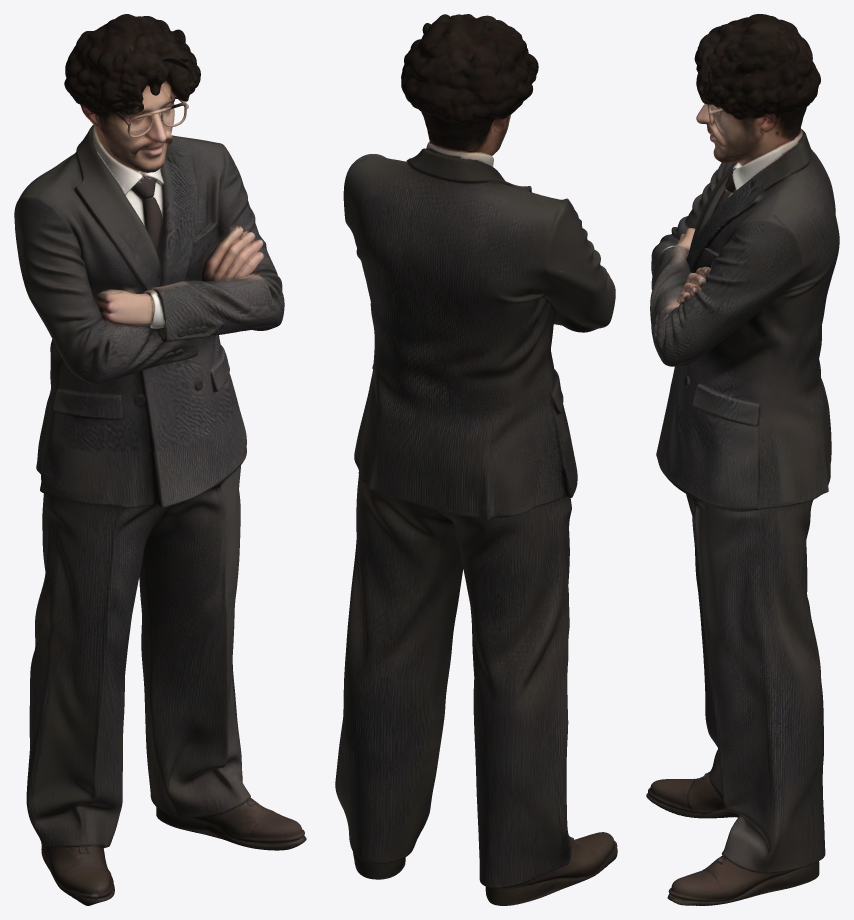
The model's file is persona.glb.
The picture shows the model from 3 angles, left to right: view 1: azimuth 30°, elevation 25°; view 2: azimuth 150°, elevation 25°; view 3: azimuth 270°, elevation 25°; orthographic projection. The views are drawn at different scales.
Parts seen in each view (by area): view 1: node_0; view 2: node_0; view 3: node_0.
Boxes of the visible parts, x1,y1,x2,y2 form: node_0: (14,14,306,905); node_0: (335,14,617,905); node_0: (646,14,839,905).
Size of the model in its own units: 0.3582 by 1.14 by 0.2429.
1 material, 1 textured.
